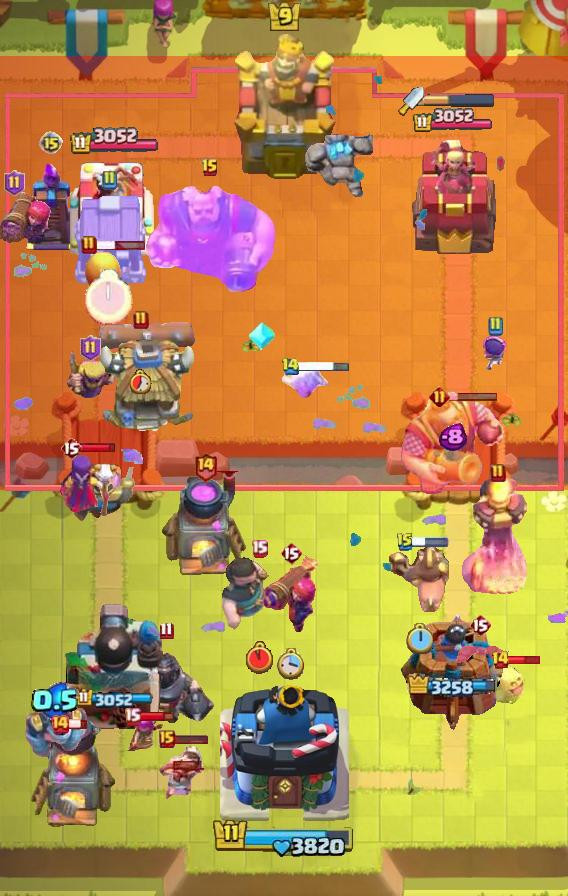arrows: (64, 350, 116, 400)
axe: (57, 452, 121, 522)
bar: (409, 138, 497, 256)
barbarian-barrel: (452, 641, 508, 667)
bat-evolution: (493, 660, 527, 704)
bomb: (69, 192, 149, 286)
cannon: (124, 715, 164, 755)
clock: (212, 817, 356, 859)
electro-dragon: (459, 475, 537, 601)
electro-spirit: (32, 682, 81, 720), (438, 423, 467, 452)
elixir: (85, 269, 133, 325), (277, 647, 305, 680), (246, 642, 273, 674), (407, 623, 434, 654), (130, 369, 152, 394)
elixir-golem-small: (21, 693, 89, 759)
emote: (297, 359, 351, 372), (94, 241, 146, 252), (447, 390, 499, 401), (138, 709, 174, 722), (79, 442, 116, 454), (173, 733, 209, 745), (506, 654, 541, 666), (411, 537, 449, 547), (68, 718, 88, 730)
firecracker: (73, 466, 137, 521)
freeze: (389, 544, 449, 614)
giant-skeleton: (397, 395, 508, 497)
goblin: (480, 334, 511, 374)
hog: (83, 247, 121, 295)
hunter: (160, 471, 250, 579), (29, 720, 117, 830)
ice-spirit-evolution-symbol: (21, 160, 81, 252)
king-tower: (219, 678, 349, 826), (231, 35, 337, 182)
king-tower-bar: (424, 93, 496, 107)
lightning: (138, 183, 281, 297)
mega-minion: (261, 554, 321, 634), (0, 192, 56, 254)
minion: (87, 318, 195, 354)
mirror: (278, 362, 328, 400)
pad_2: (247, 321, 277, 351)
prince: (97, 340, 199, 436)
queen-tower: (401, 613, 505, 731), (70, 154, 158, 256)
royal-guardian: (115, 644, 217, 730)
royal-hog: (220, 556, 298, 630)
selected: (68, 127, 159, 156), (407, 672, 499, 700), (412, 108, 494, 134), (75, 688, 153, 708)
skeleton-dragon: (157, 742, 205, 800)
text: (193, 450, 218, 481), (39, 131, 63, 155), (4, 170, 25, 196), (80, 335, 101, 361), (60, 436, 82, 460), (280, 541, 302, 565), (469, 613, 491, 637), (430, 385, 451, 406), (50, 714, 70, 734), (491, 650, 510, 670), (201, 158, 219, 178), (396, 532, 414, 552), (280, 357, 299, 375), (101, 170, 117, 190), (81, 235, 97, 255), (133, 310, 149, 330), (487, 316, 503, 336), (490, 463, 506, 483), (251, 539, 268, 557), (123, 707, 140, 725), (159, 730, 175, 748), (159, 621, 174, 639)
tower-bar: (64, 601, 164, 731)
valkyrie-evolution: (301, 133, 373, 203)
